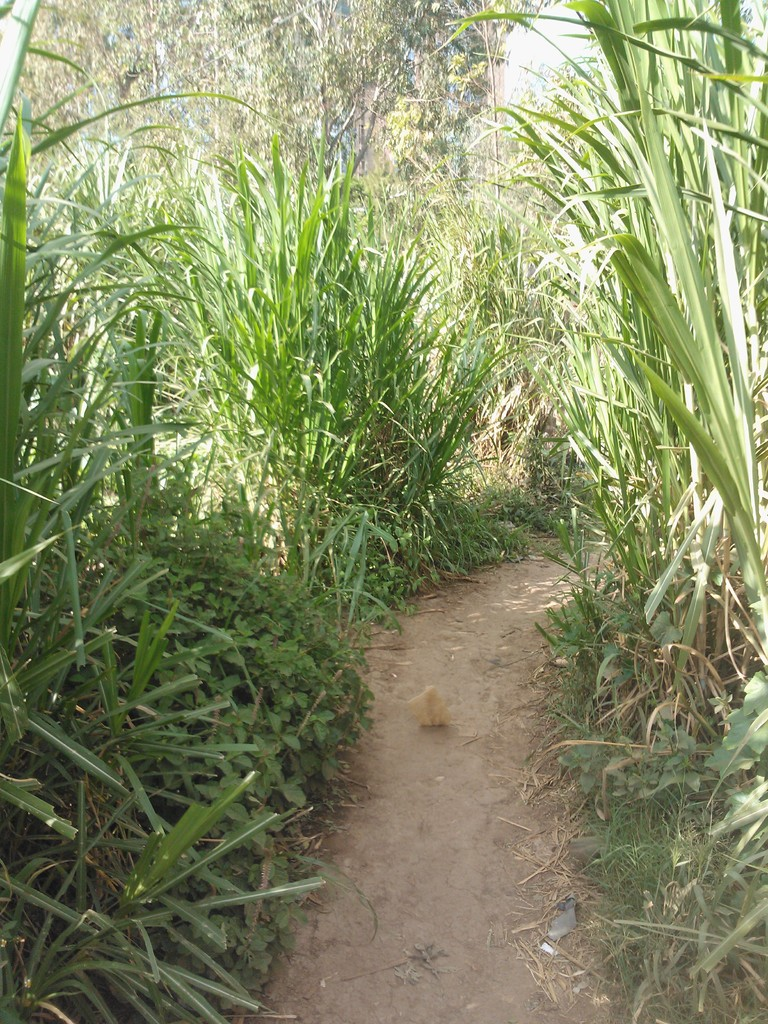Tree: (0, 0, 578, 235)
